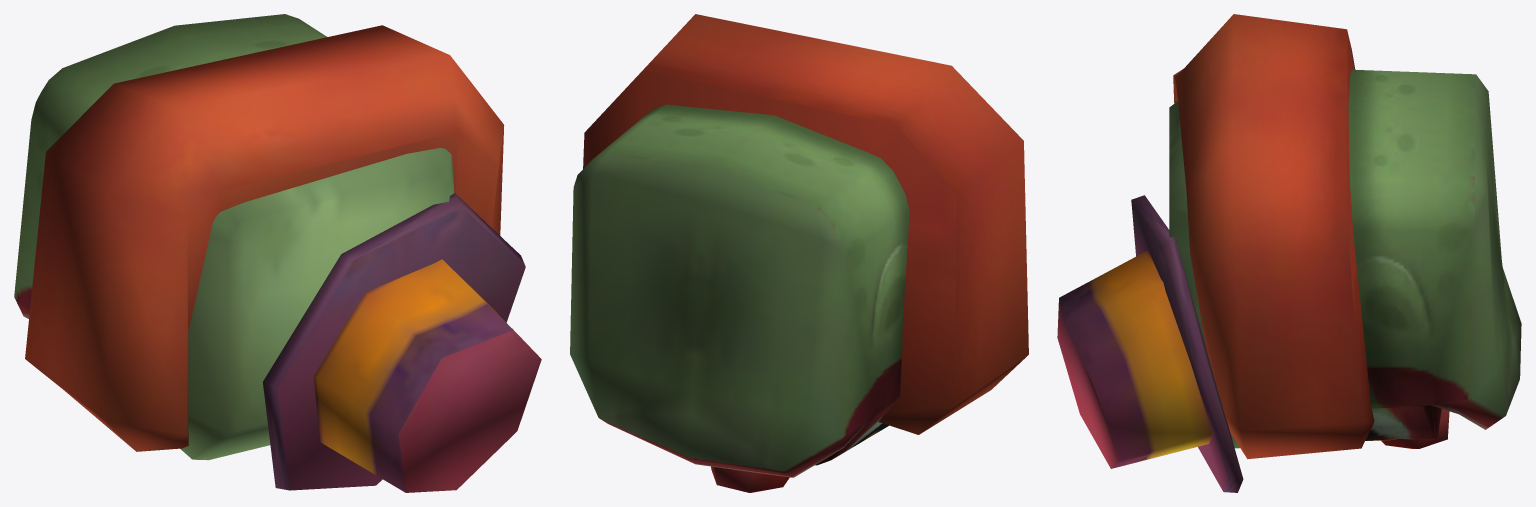
File: Zombie_Clown_H_Head_dd12c023__Zombie_Clown_Green_26e993c0_c1f257.obj
3 views of the same model, side by side, from view 1: azimuth 30°, elevation 25°; view 2: azimuth 150°, elevation 25°; view 3: azimuth 270°, elevation 25° (orthographic). The views are drawn at different scales.
Size of the model in its own units: 0.9463 by 0.9351 by 1.
1 material, 1 textured.
